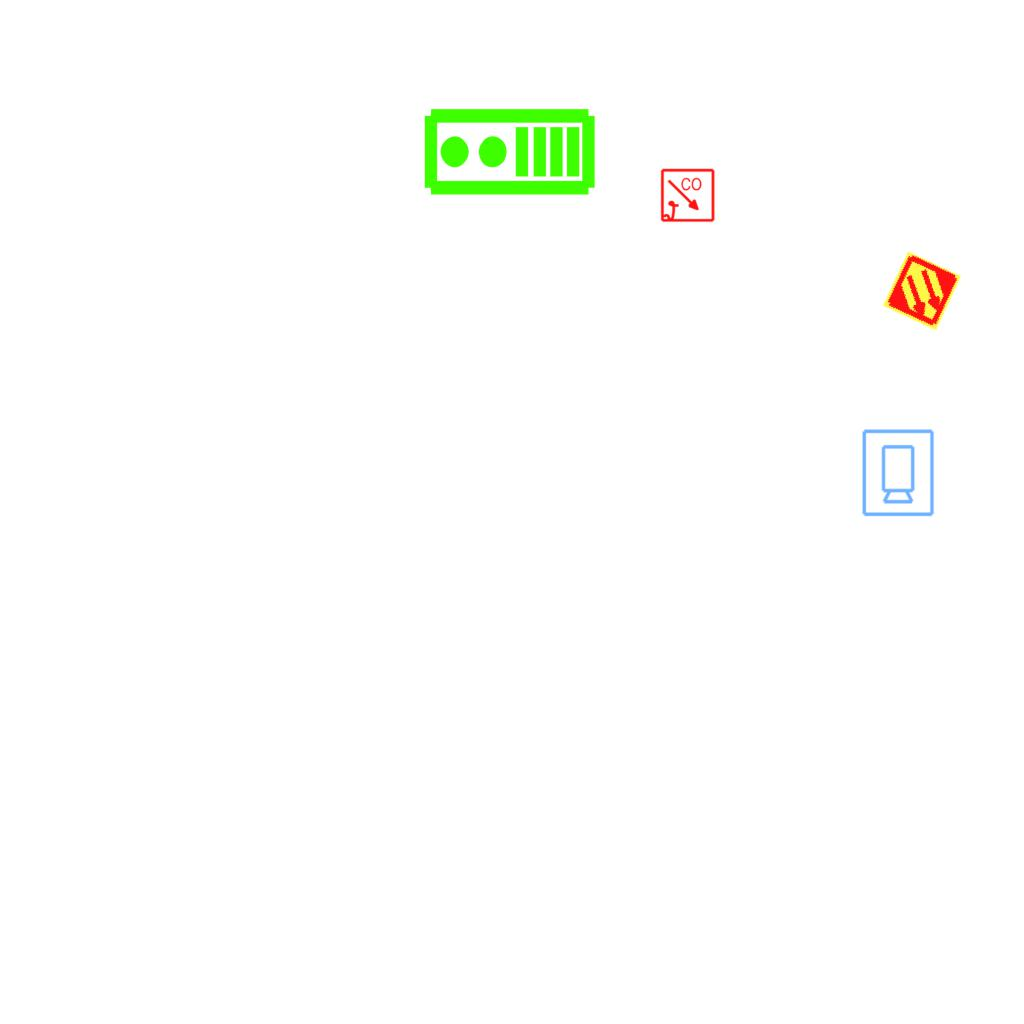ASR_Ansaugrauchmelder: (880, 249, 964, 333)
Gegensprechanlage_mit_Video: (421, 106, 597, 201)
KFO_Kamera_mit_Festobjektiv: (859, 427, 936, 518)
ROA_Rauchmelder_optisch_mit_Signalgeber_(Sockelsirene): (660, 168, 716, 224)
